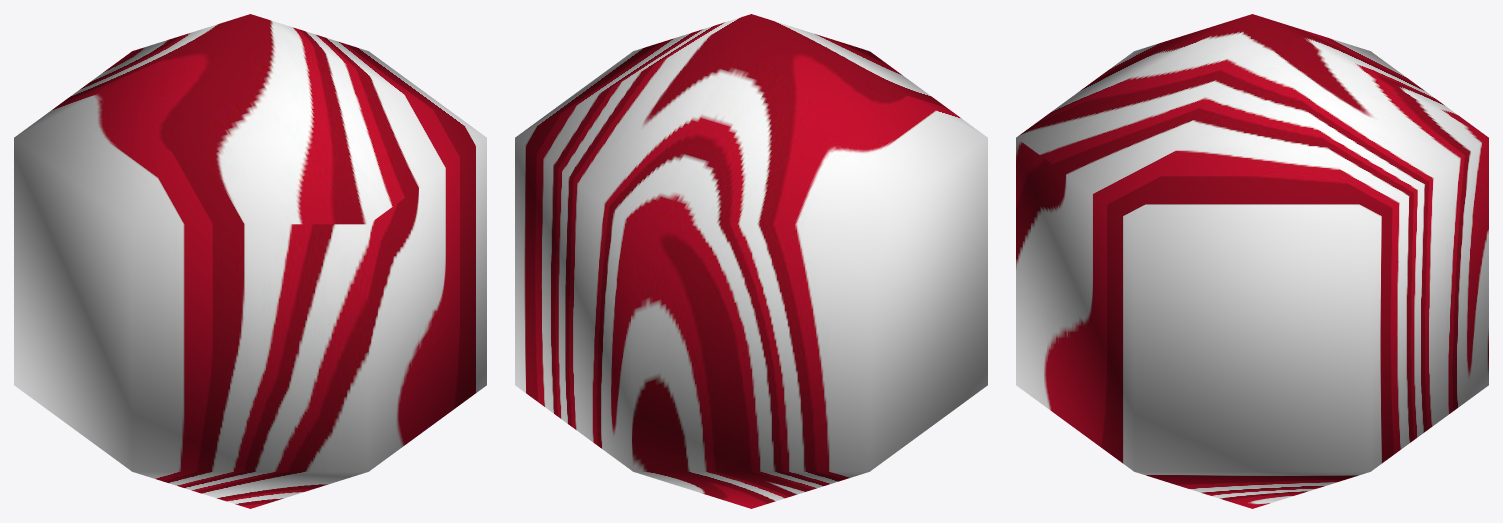
Rendered from roostermarble_shooter.DAE.
3 renders of one model, left to right at view 1: azimuth 30°, elevation 25°; view 2: azimuth 150°, elevation 25°; view 3: azimuth 270°, elevation 25°, orthographic.
Parts seen in each view (by area): view 1: Shooter_B; view 2: Shooter_B; view 3: Shooter_B.
Boxes of the visible parts, x1,y1,x2,y2 form: Shooter_B: [14, 14, 486, 508]; Shooter_B: [515, 14, 987, 508]; Shooter_B: [1016, 14, 1488, 508].
Bounding box in the file's own units: 0.0381 × 0.044 × 0.0508.
Materials: 1 (1 with a texture image).
